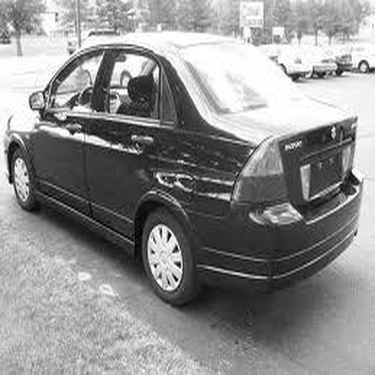car: (7, 22, 366, 314), (250, 21, 313, 77), (300, 26, 343, 77), (332, 24, 363, 71)
